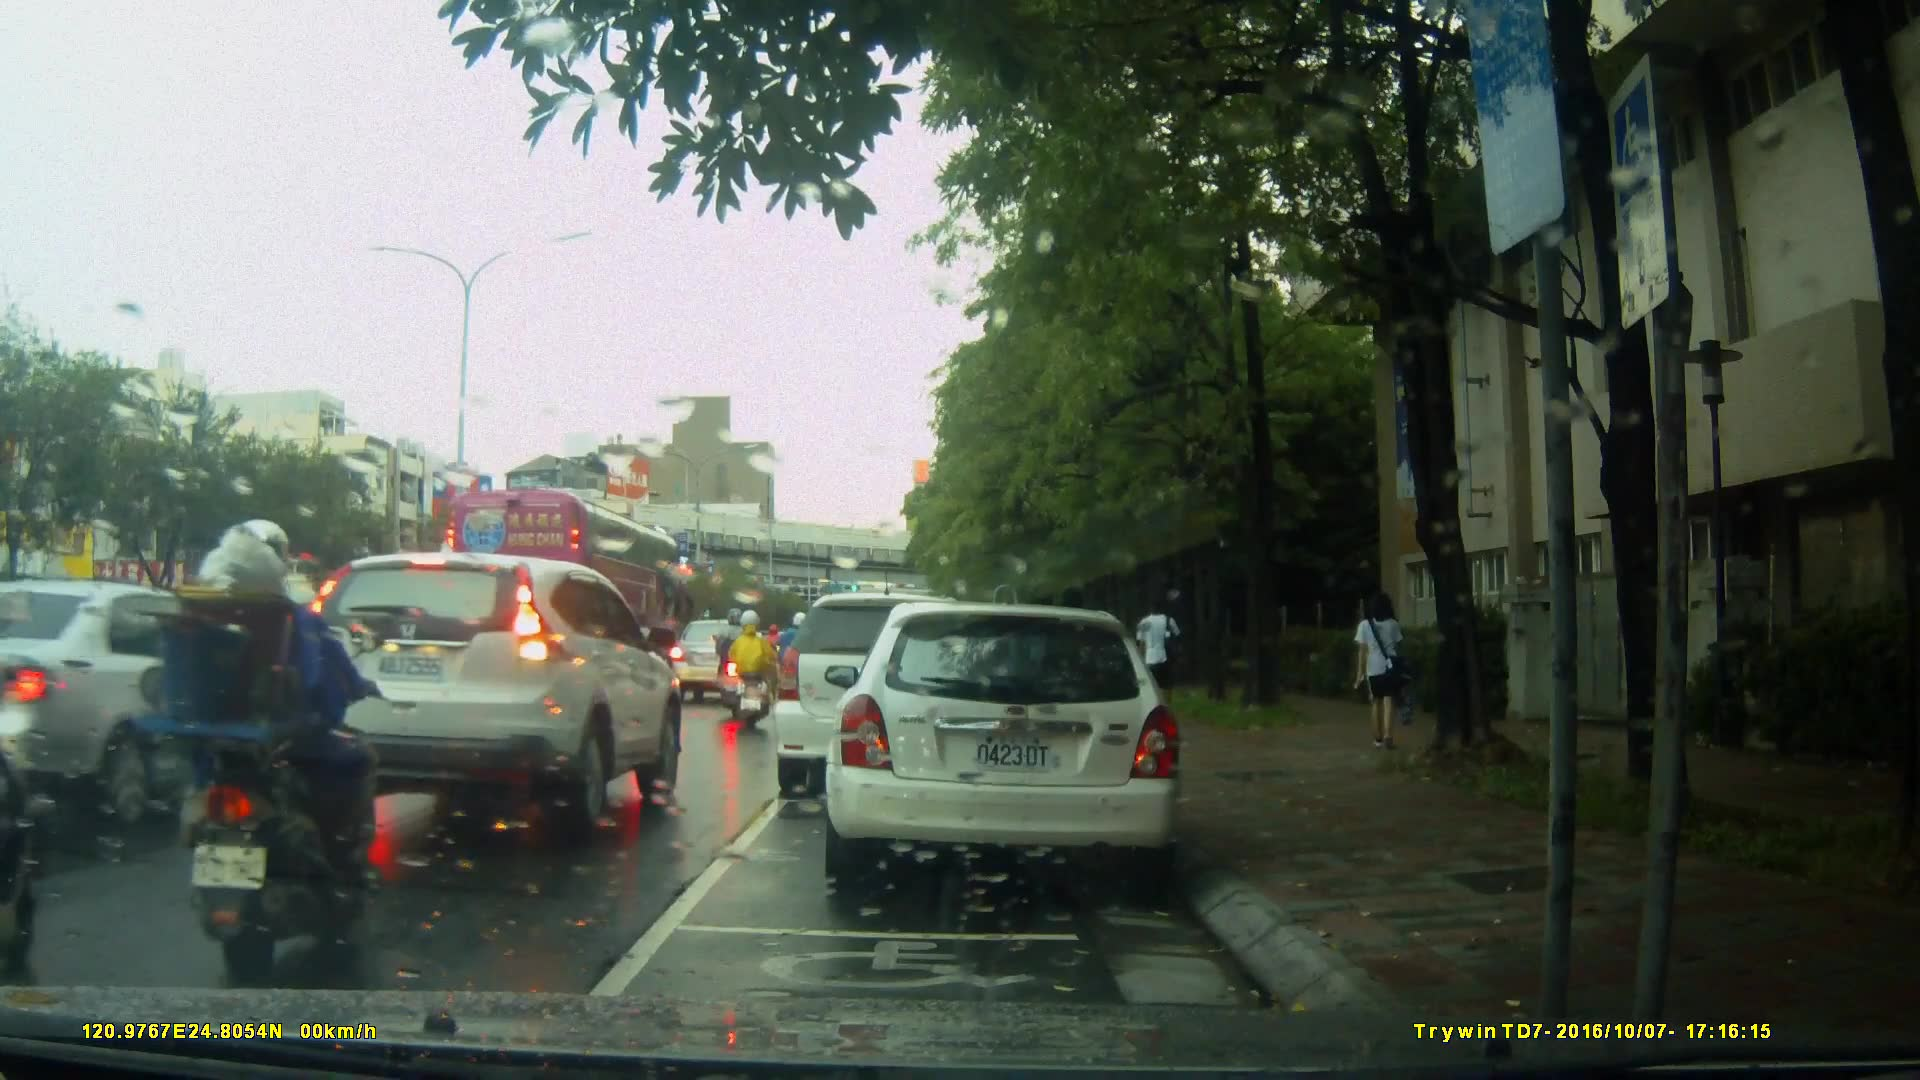pedestrian: (1342, 582, 1421, 768), (1135, 593, 1182, 715)
rider: (148, 518, 390, 981), (729, 609, 776, 732), (715, 602, 764, 716), (778, 605, 815, 707)
vehicle: (296, 550, 688, 834), (835, 594, 1194, 898), (7, 577, 375, 812), (776, 590, 1026, 784), (440, 489, 704, 668), (667, 617, 769, 704)
